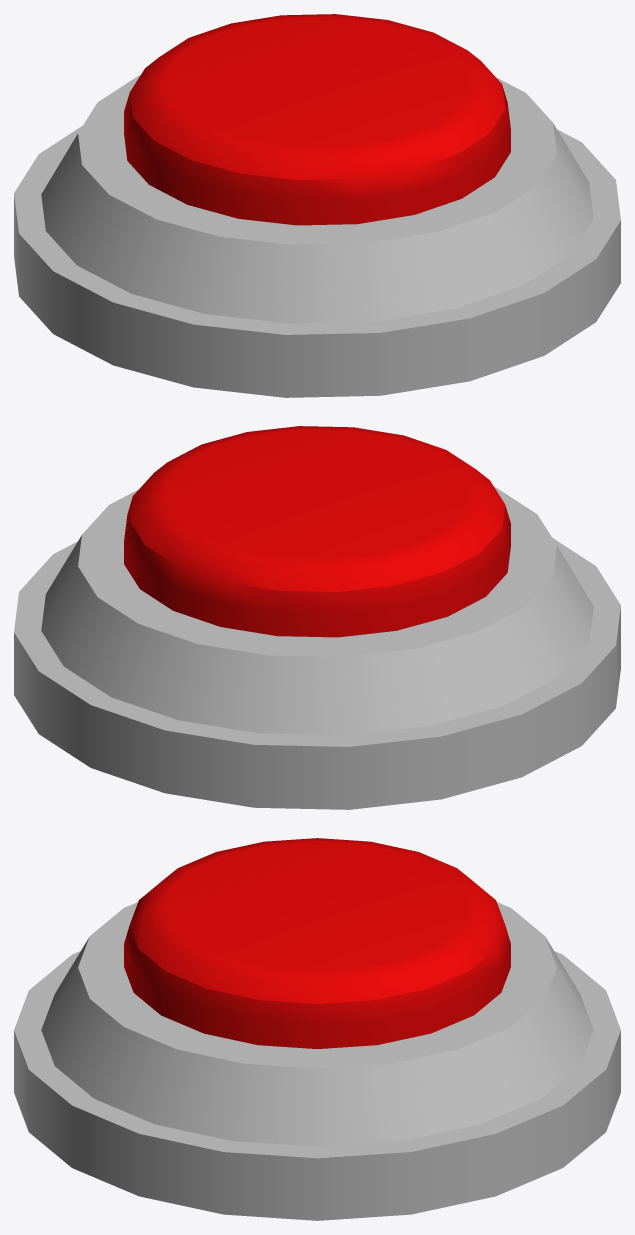
Rendered from Red Button.fbx.
3 renders of one model, top to bottom at view 1: azimuth 30°, elevation 25°; view 2: azimuth 150°, elevation 25°; view 3: azimuth 270°, elevation 25°, orthographic.
Parts seen in each view (by area): view 1: pPipe1, pCylinder1; view 2: pPipe1, pCylinder1; view 3: pPipe1, pCylinder1.
Boxes of the visible parts, x1=… form: pPipe1: x1=14, y1=75, x2=620, y2=397; pCylinder1: x1=124, y1=14, x2=510, y2=225; pPipe1: x1=14, y1=487, x2=620, y2=809; pCylinder1: x1=124, y1=426, x2=510, y2=637; pPipe1: x1=14, y1=902, x2=620, y2=1220; pCylinder1: x1=124, y1=838, x2=510, y2=1049.
Bounding box in the file's own units: 2.2 × 0.7459 × 2.2.
